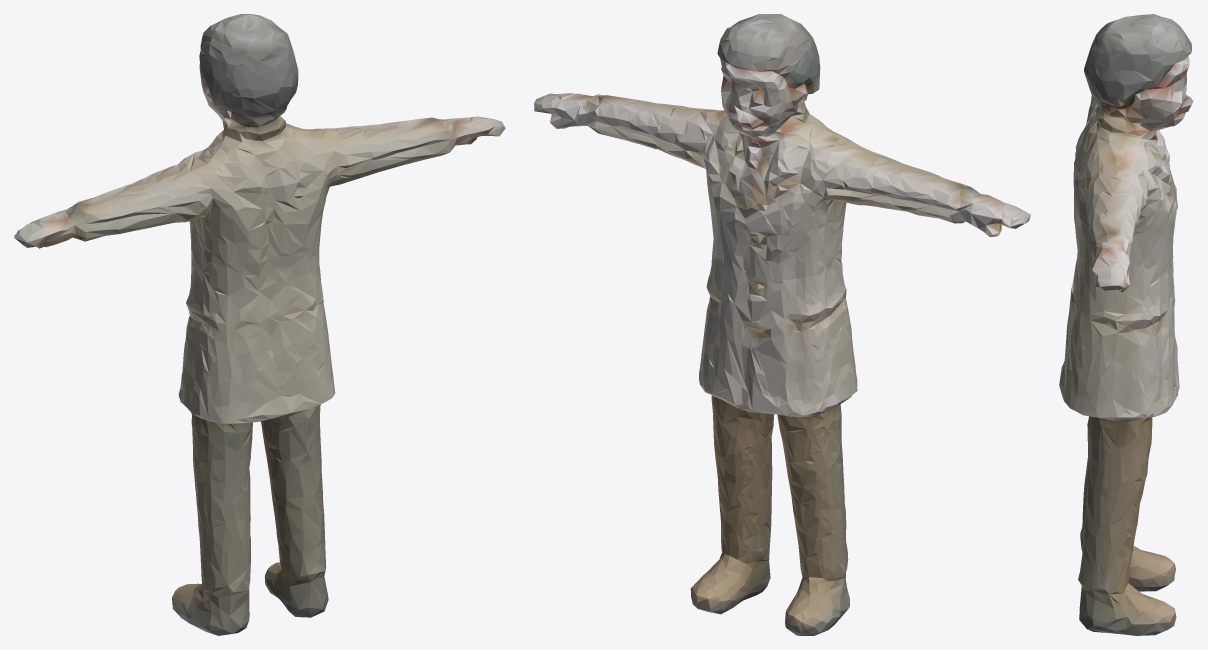
Rendered from ped_man.glb.
The picture shows the model from 3 angles, left to right: view 1: azimuth 30°, elevation 25°; view 2: azimuth 150°, elevation 25°; view 3: azimuth 270°, elevation 25°; orthographic projection.
Visible parts, largest first — view 1: world; view 2: world; view 3: world.
Part boxes in pixels (bbox=[...]): world: bbox=[14, 14, 505, 635]; world: bbox=[534, 14, 1030, 635]; world: bbox=[1059, 14, 1193, 635].
Bounding box in the file's own units: 1.51 × 1.75 × 0.3619.
